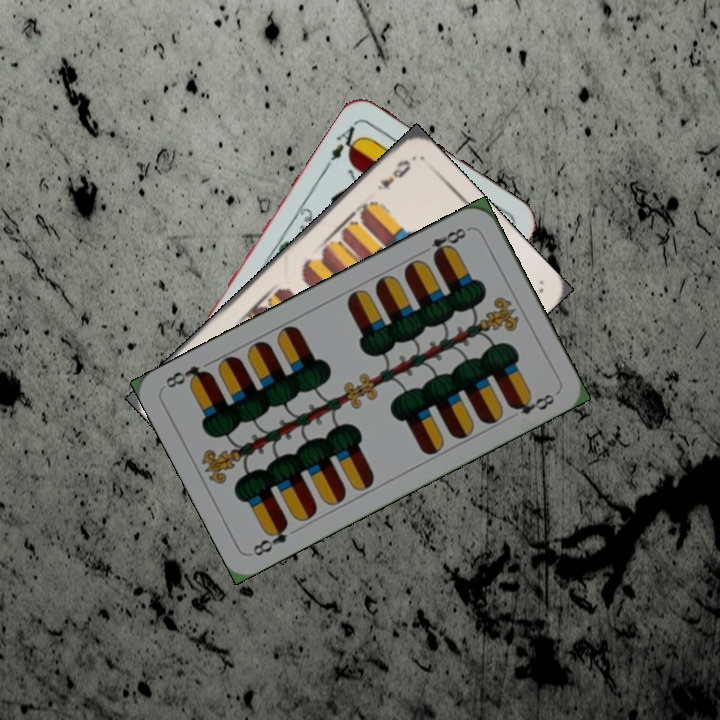E8: (417, 223, 472, 261), (248, 517, 291, 559)
E9: (373, 155, 413, 193)
EA: (321, 118, 366, 171)
